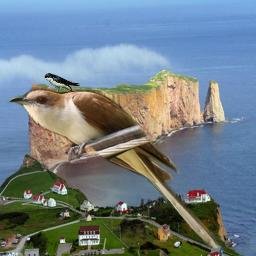Cuckoo: (7, 87, 223, 253)
Swallow: (44, 73, 81, 95)
